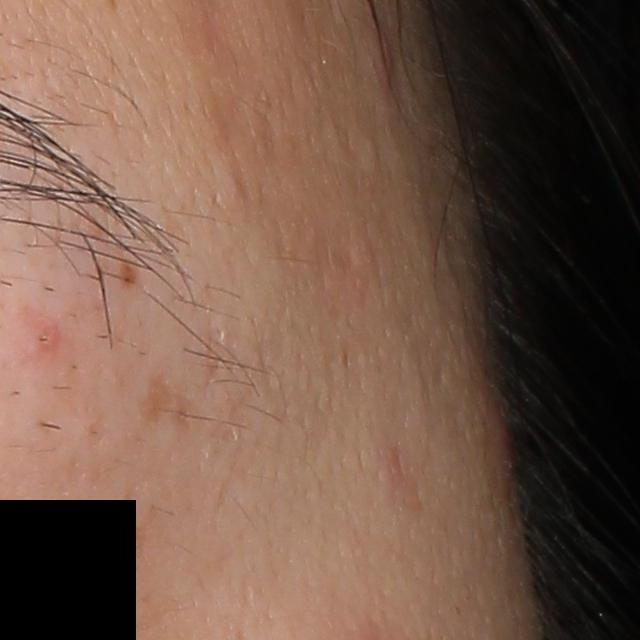papule: (33, 320, 61, 355)
